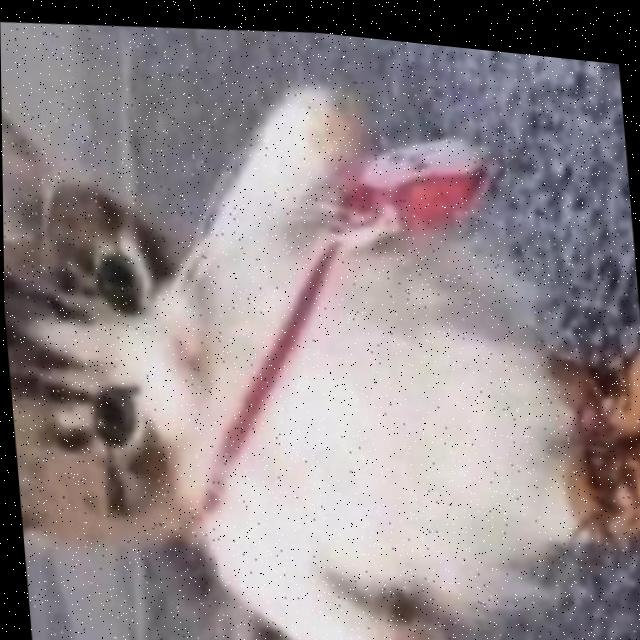Cats: (1, 72, 597, 640)
